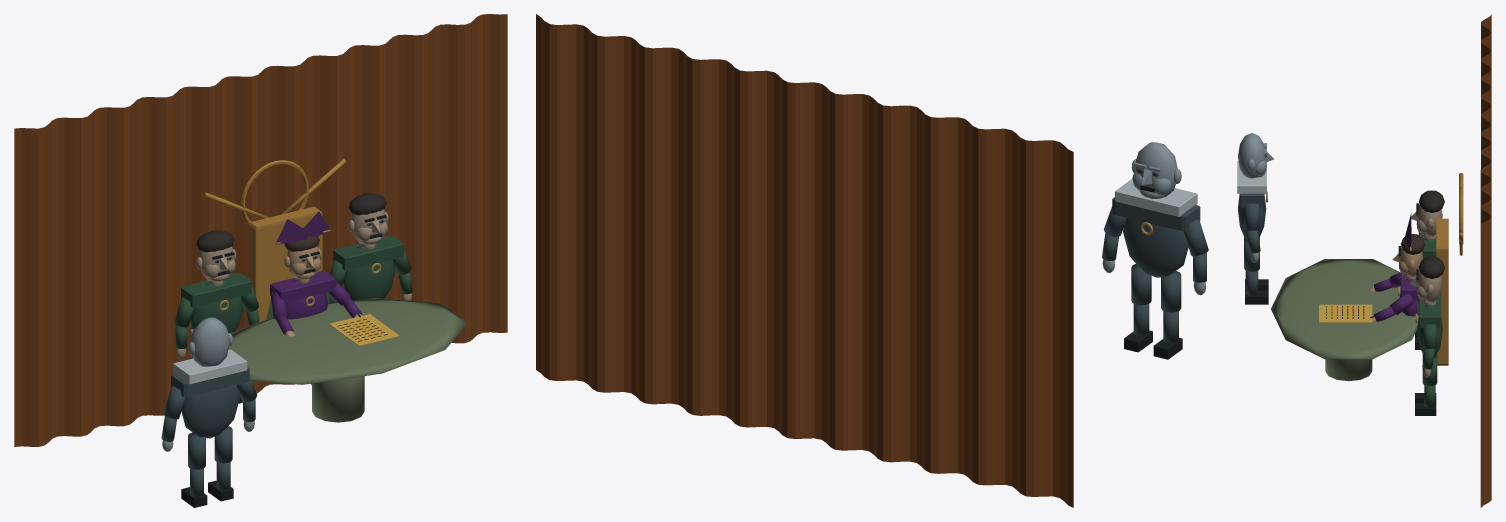
3 views of the same model, side by side, from view 1: azimuth 30°, elevation 25°; view 2: azimuth 150°, elevation 25°; view 3: azimuth 270°, elevation 25° (orthographic). The views are drawn at different scales.
Parts seen in each view (by area): view 1: K / curtain folds, K / oval council table, K / throne back, K / foreground witness torso, K / table pedestal, K / standing guard 2.5 torso, K / foreground witness skull, K / standing guard 2.5 shoulders, K / standing guard -2.5 shoulders, K / witness collar, K / document, K / seated admiral shoulders (+9 smaller); view 2: K / curtain folds, K / foreground witness torso, K / witness collar, K / foreground witness shoulders, K / foreground witness skull, K / foreground witness thigh 1, K / foreground witness thigh -1; view 3: K / oval council table, K / curtain folds, K / throne back, K / document, K / table pedestal, K / foreground witness skull, K / witness collar, K / standing guard 2.5 shoulders, K / standing guard -2.5 basic hair, K / standing guard 2.5 basic hair, K / foreground witness upper sleeve -1, K / standing guard 2.5 skull (+10 smaller).
Boxes of the visible parts, x1,y1,x2,y2 form: K / curtain folds: (14, 14, 507, 446); K / oval council table: (228, 298, 467, 384); K / throne back: (248, 206, 322, 321); K / foreground witness torso: (181, 385, 239, 438); K / table pedestal: (312, 376, 364, 422); K / standing guard 2.5 torso: (342, 243, 395, 300); K / foreground witness skull: (191, 317, 230, 366); K / standing guard 2.5 shoulders: (333, 235, 404, 270); K / standing guard -2.5 shoulders: (181, 273, 251, 307); K / witness collar: (173, 349, 247, 384); K / document: (329, 314, 399, 345); K / seated admiral shoulders: (270, 271, 336, 302); K / curtain folds: (536, 14, 1073, 507); K / foreground witness torso: (1123, 218, 1188, 277); K / witness collar: (1115, 179, 1197, 216); K / foreground witness shoulders: (1112, 197, 1200, 231); K / foreground witness skull: (1134, 142, 1177, 196); K / foreground witness thigh 1: (1161, 271, 1181, 312); K / foreground witness thigh -1: (1131, 264, 1151, 305); K / oval council table: (1271, 259, 1418, 359); K / curtain folds: (1480, 14, 1491, 507); K / throne back: (1436, 218, 1448, 365); K / document: (1319, 304, 1372, 322); K / table pedestal: (1325, 359, 1372, 381); K / foreground witness skull: (1238, 133, 1265, 178); K / witness collar: (1237, 161, 1266, 193); K / standing guard 2.5 shoulders: (1418, 292, 1441, 327); K / standing guard -2.5 basic hair: (1418, 190, 1444, 212); K / standing guard 2.5 basic hair: (1418, 256, 1444, 278); K / foreground witness upper sleeve -1: (1244, 203, 1259, 230); K / standing guard 2.5 skull: (1418, 270, 1442, 302).
Size of the model in its own units: 16 by 10 by 8.16.
